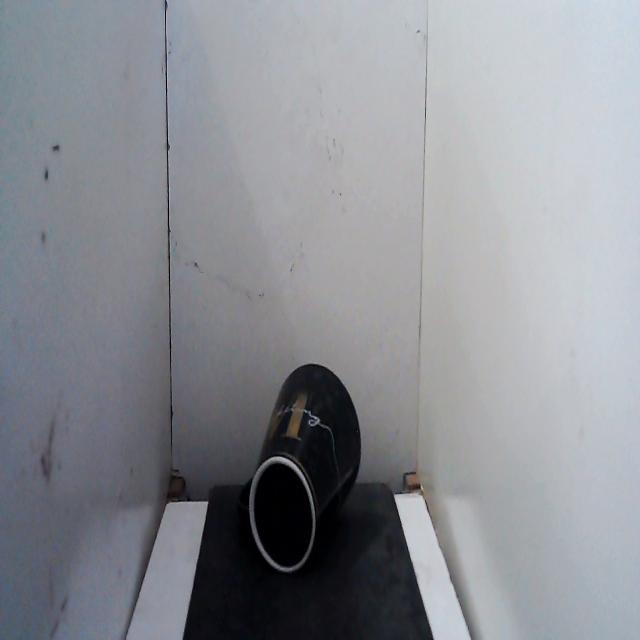vidro: (232, 347, 367, 589)
